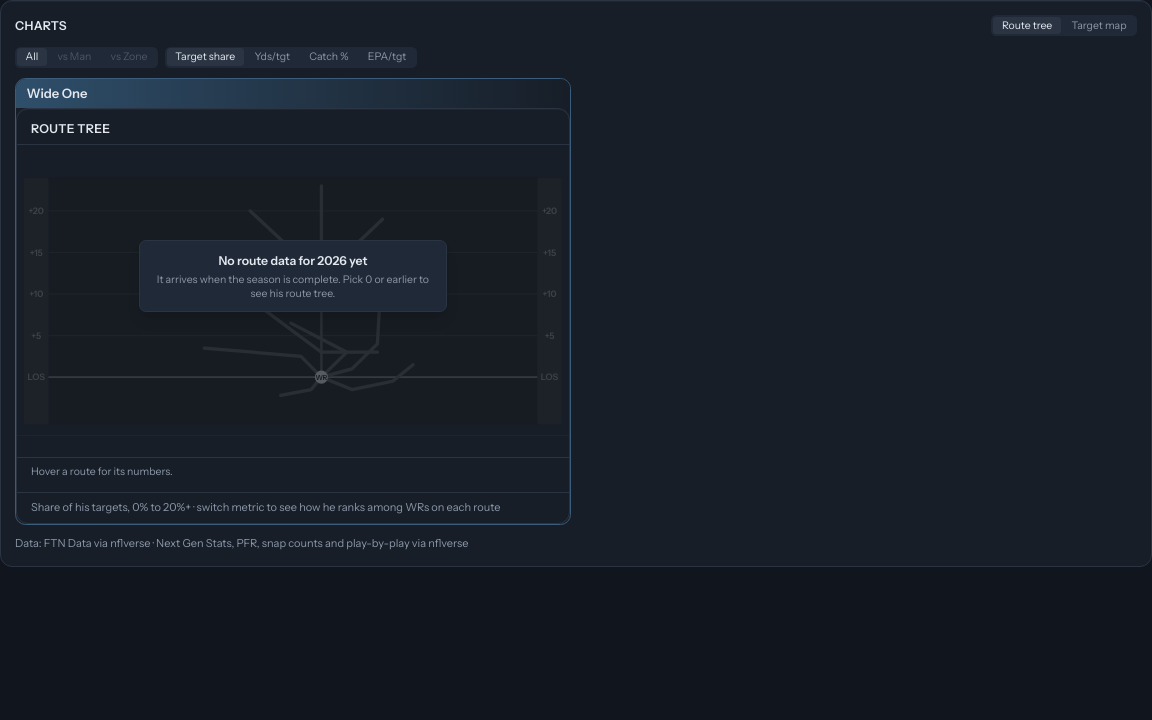
Scenario: CompareCharts › a season without FTN disables the target-map play filters
Step 1. Click the button "Target map" → (1099,26), box [1063,17,1135,34]
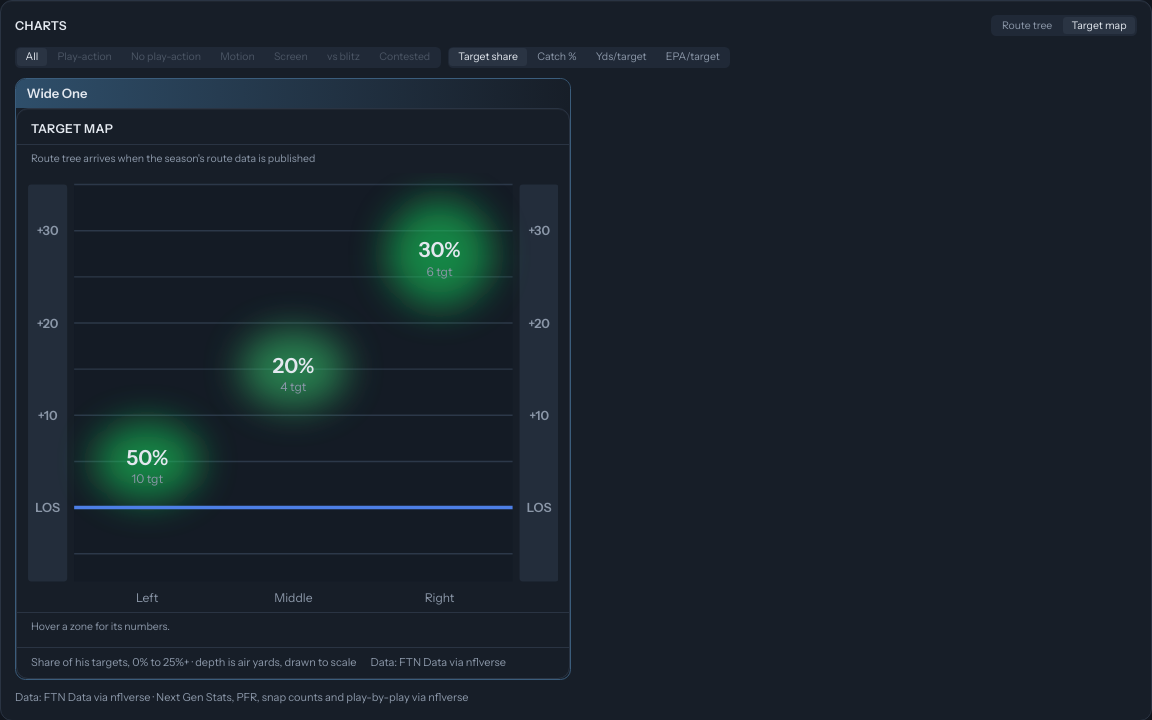
Expected: the button "Play-action" is disabled, [49,48,121,66]
